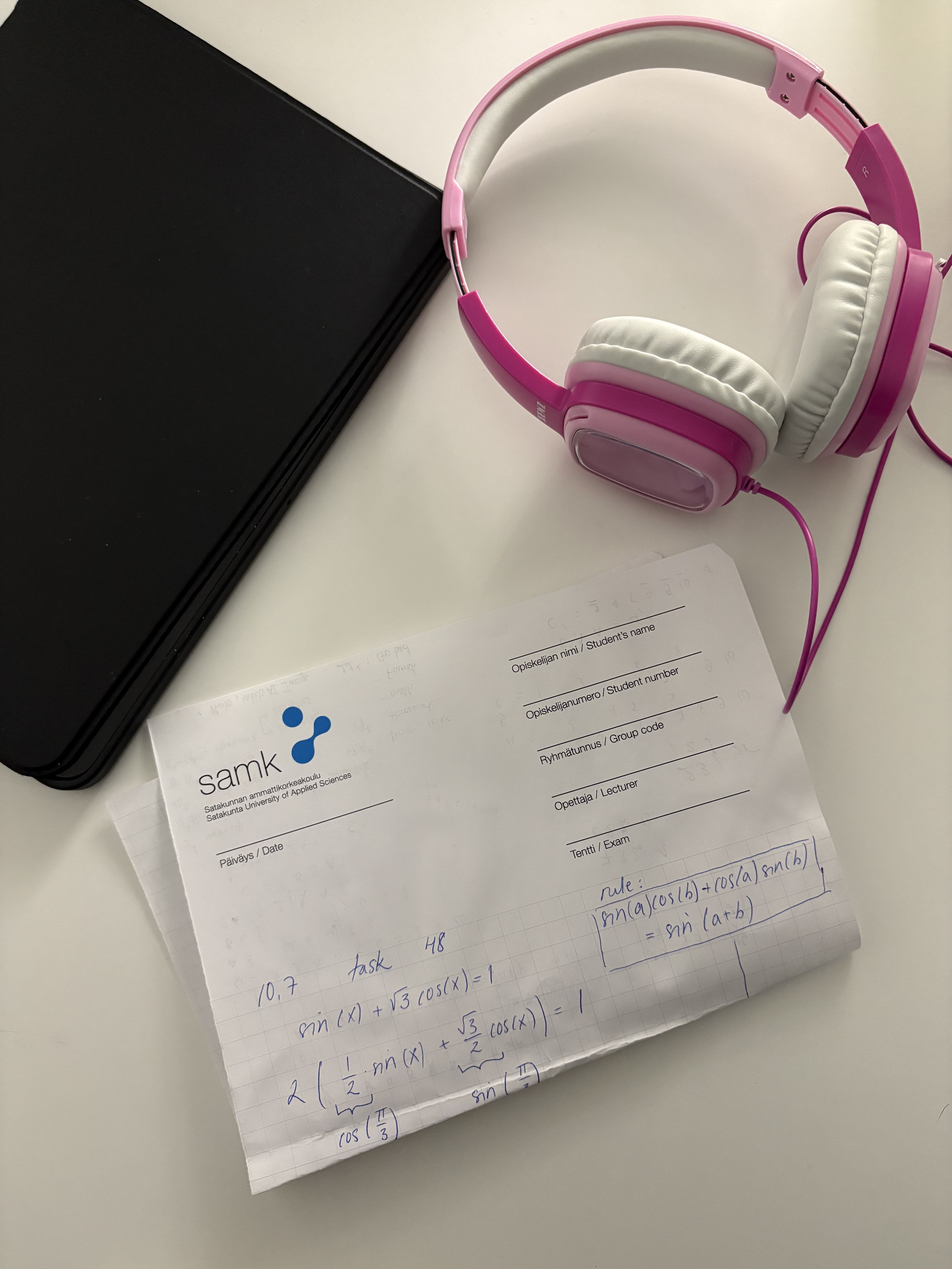paper: (82, 532, 886, 1198)
